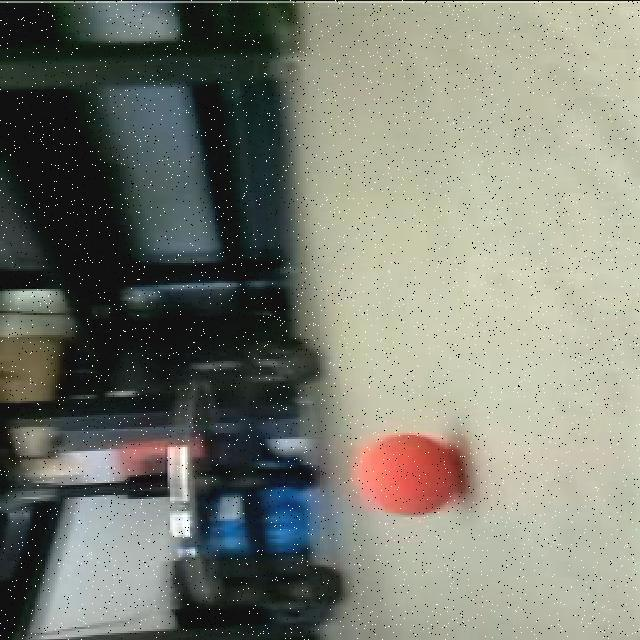ping-pong-ball: (348, 430, 463, 516)
